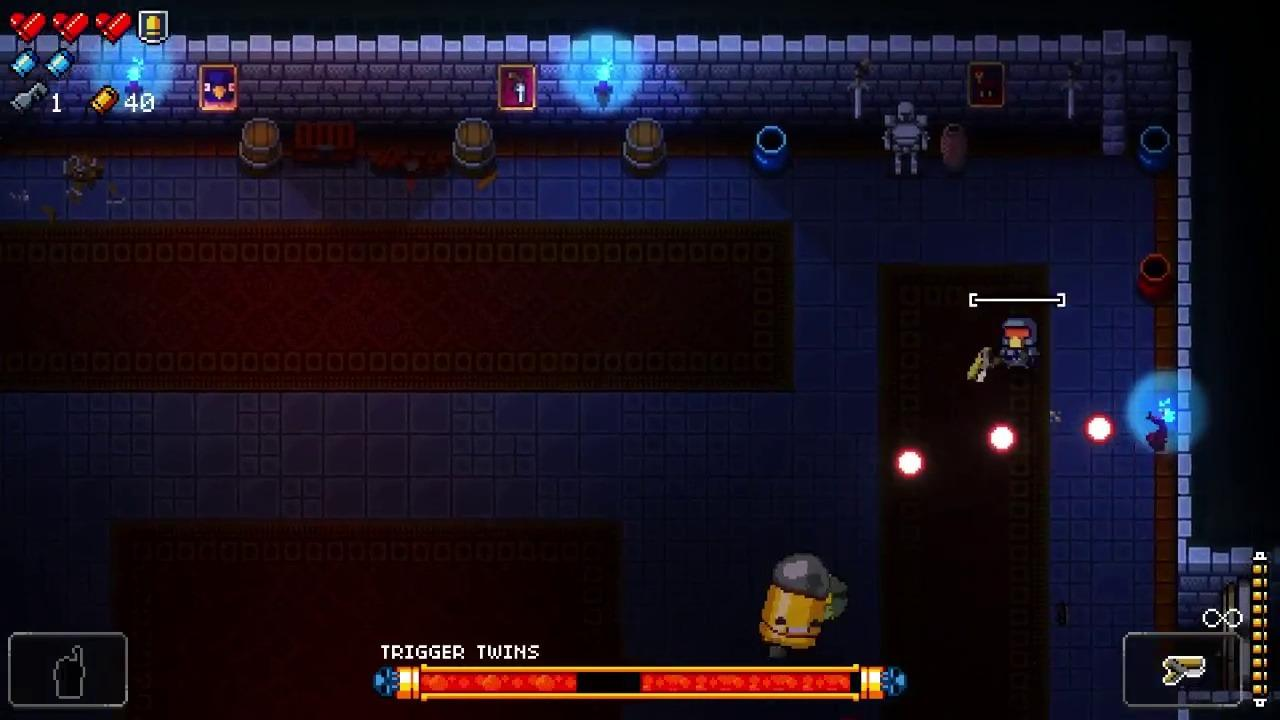boss_smiley: (760, 552, 830, 651)
bullet: (892, 446, 926, 485), (987, 422, 1017, 456), (1084, 414, 1116, 445)
player: (999, 319, 1043, 373)
